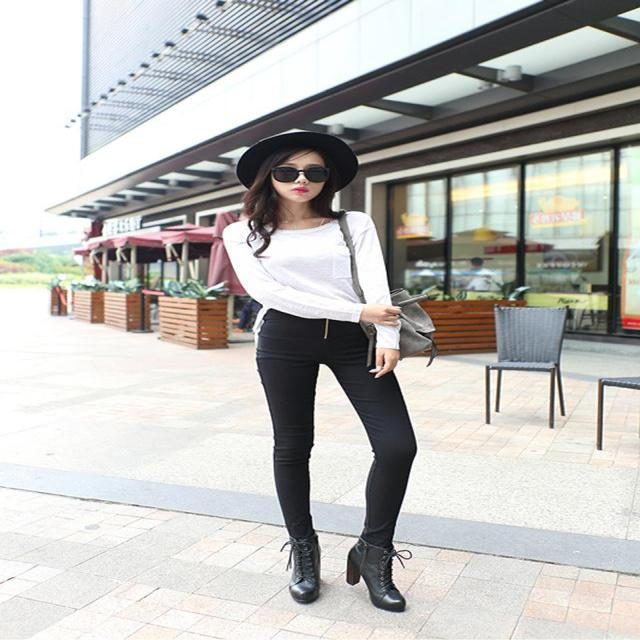long-sleeve-top: (204, 196, 425, 331)
trousers: (236, 346, 512, 546)
